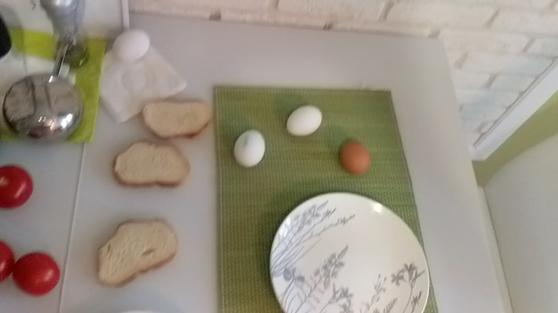egg: (284, 102, 324, 138), (339, 137, 373, 176), (114, 26, 150, 62), (233, 128, 267, 166)
white_bread: (95, 216, 178, 286), (110, 137, 192, 189), (138, 99, 220, 138)
